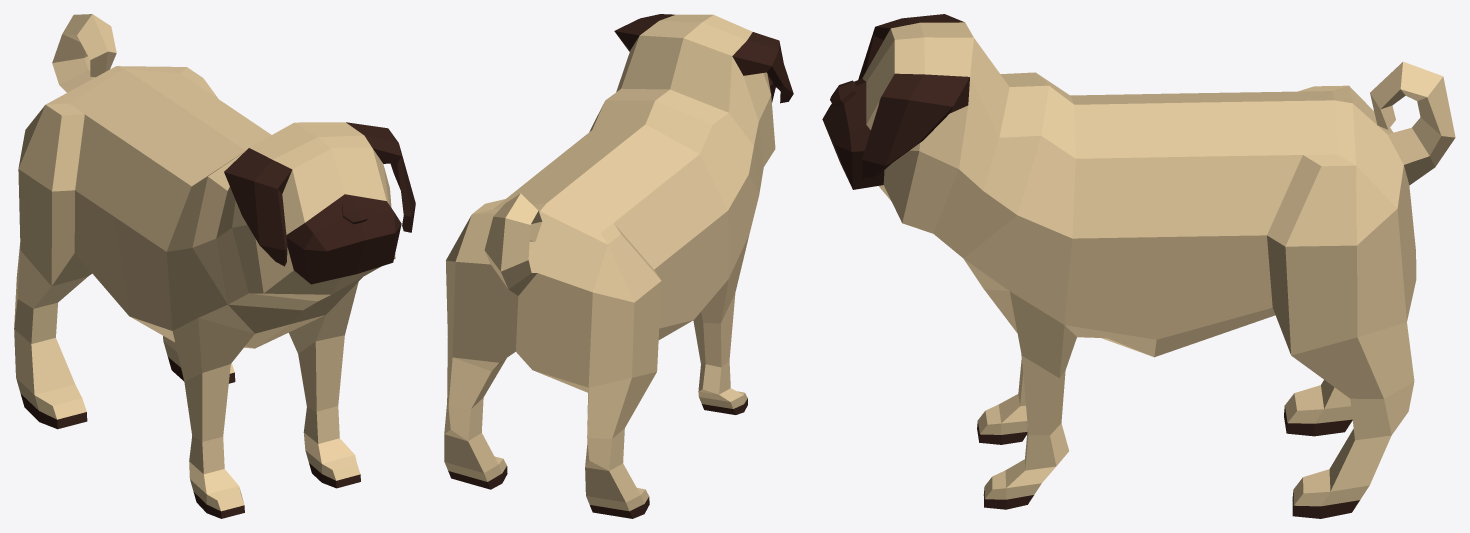
The model's file is dog.fbx.
3 views of the same model, side by side, from view 1: azimuth 30°, elevation 25°; view 2: azimuth 150°, elevation 25°; view 3: azimuth 270°, elevation 25° (orthographic). The views are drawn at different scales.
Parts seen in each view (by area): view 1: Pug; view 2: Pug; view 3: Pug.
Part boxes in pixels (<box>): Pug: <box>14,14,415,518</box>; Pug: <box>444,14,793,518</box>; Pug: <box>822,14,1455,518</box>.
Size of the model in its own units: 463 by 839 by 1107.
